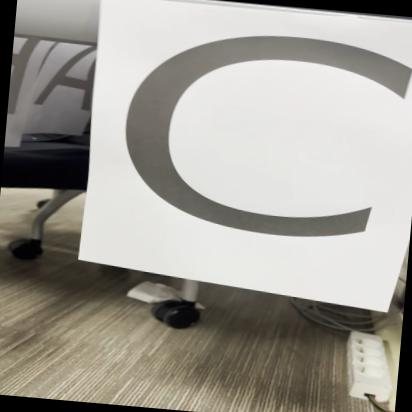seat: (72, 0, 412, 321)
